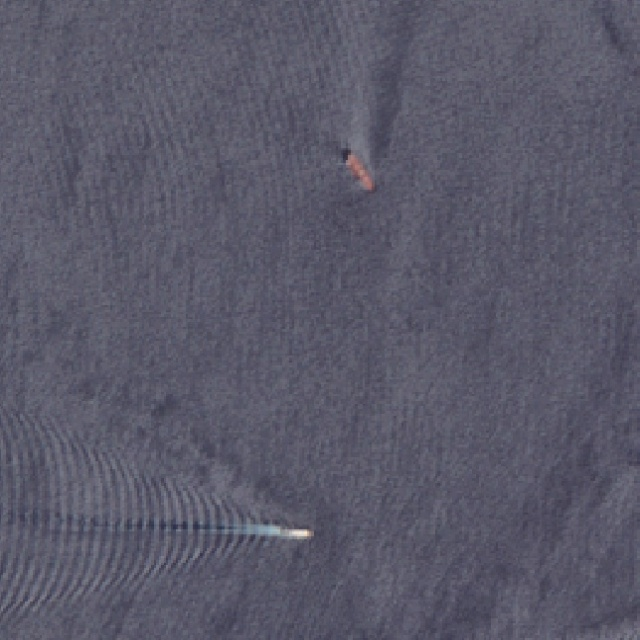wake: (98, 464, 321, 587)
